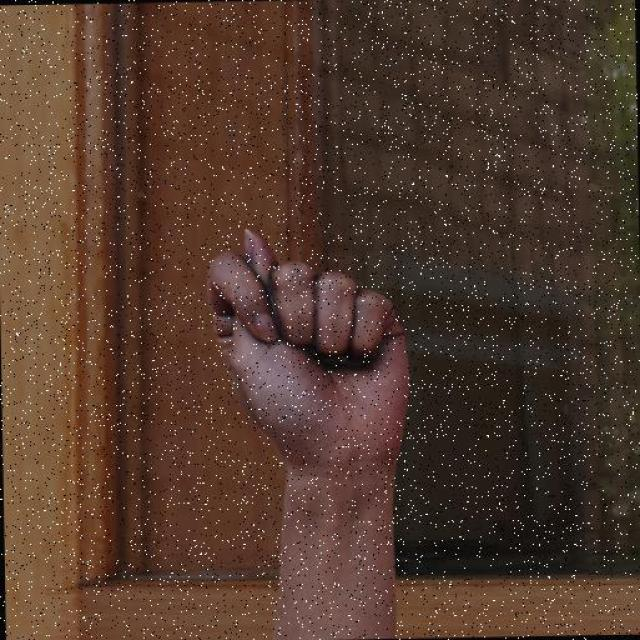T: (198, 221, 421, 475)
